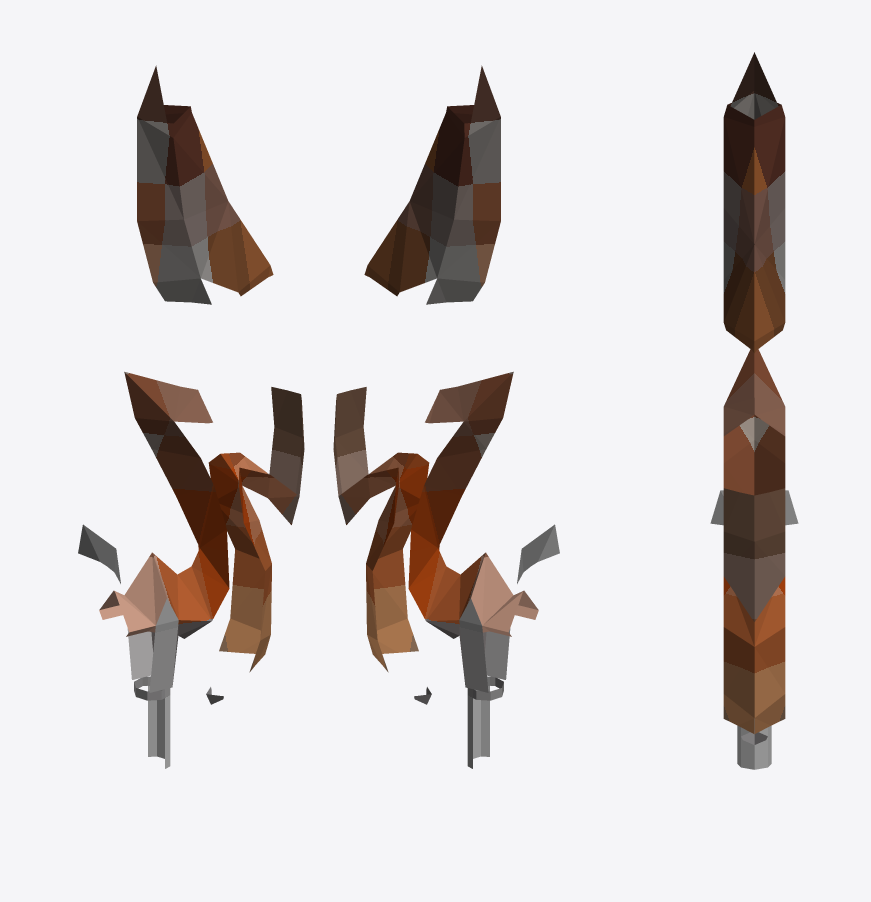
The model's file is megacosm.obj.
3 views of the same model, side by side, from view 1: azimuth 30°, elevation 25°; view 2: azimuth 150°, elevation 25°; view 3: azimuth 270°, elevation 25° (orthographic).
Bounding box in the file's own units: 79.55 × 243 × 50.84.
